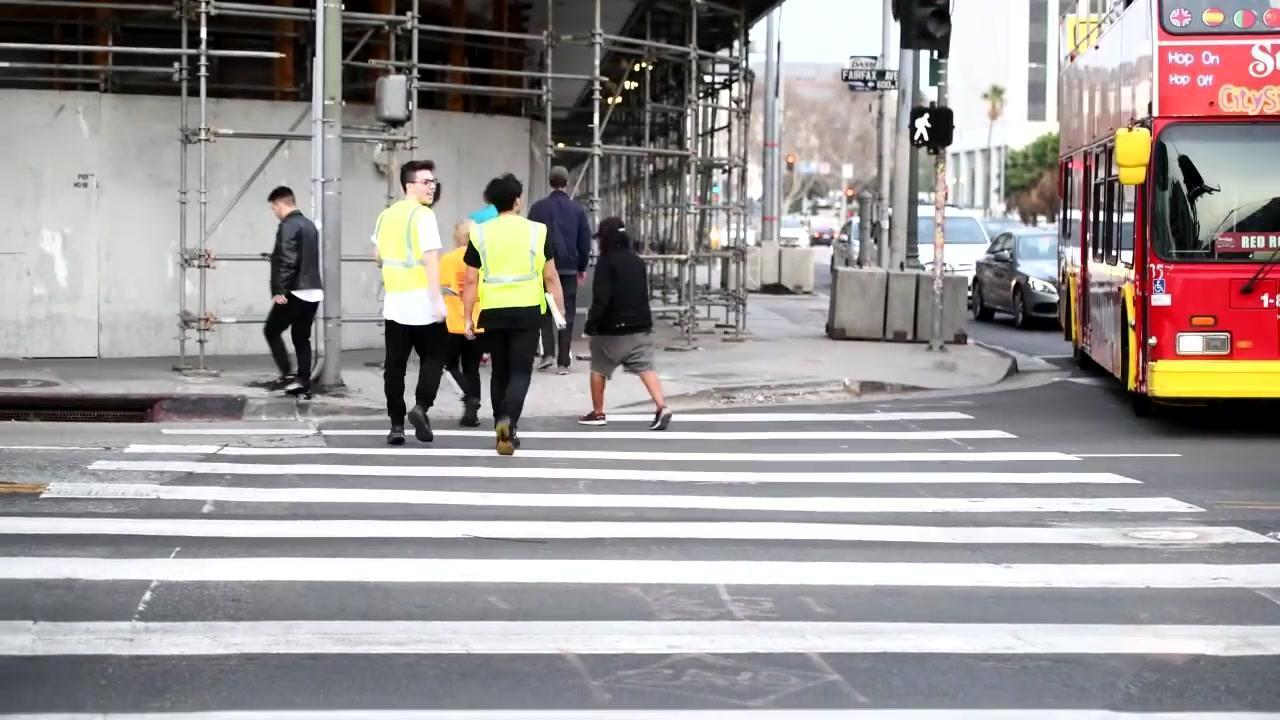Glass: (468, 212, 551, 316), (375, 198, 455, 289)
